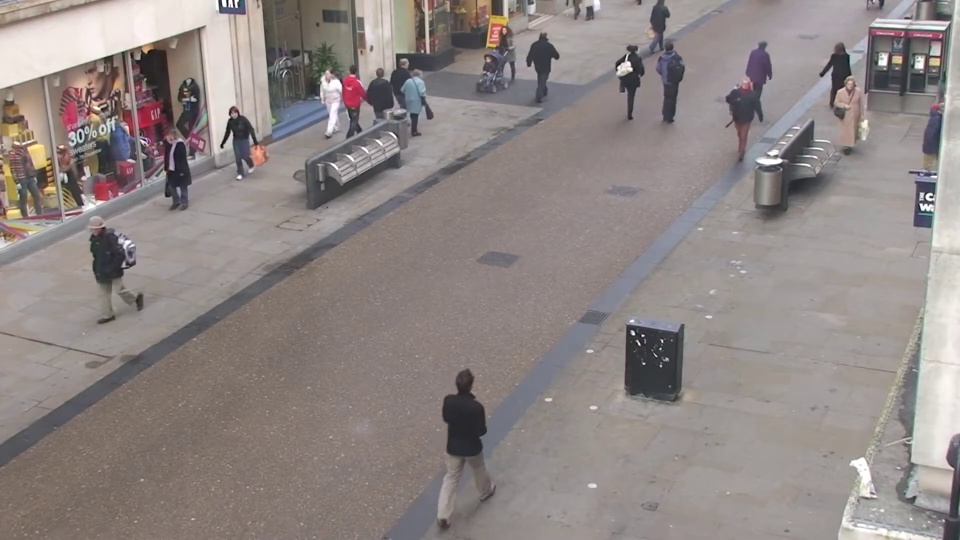pedestrian: (456, 348, 507, 502), (66, 213, 120, 332), (150, 128, 191, 225), (216, 105, 252, 196), (829, 75, 865, 162), (819, 40, 852, 118), (727, 75, 757, 160), (312, 68, 343, 149), (408, 64, 437, 145), (371, 61, 400, 141), (343, 59, 372, 138), (395, 55, 423, 134), (471, 53, 498, 131), (749, 36, 777, 111), (658, 38, 684, 113), (622, 40, 647, 116), (487, 25, 512, 96), (535, 24, 559, 94)
